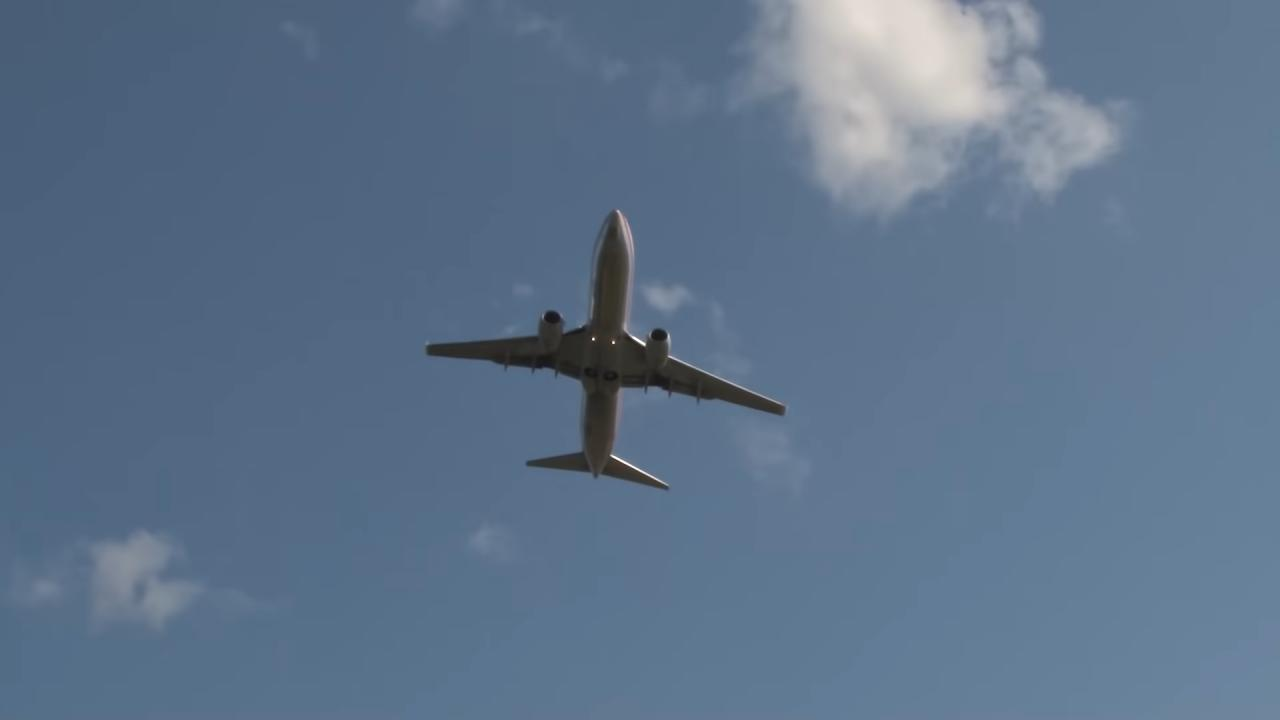Airplane: (415, 194, 800, 503)
